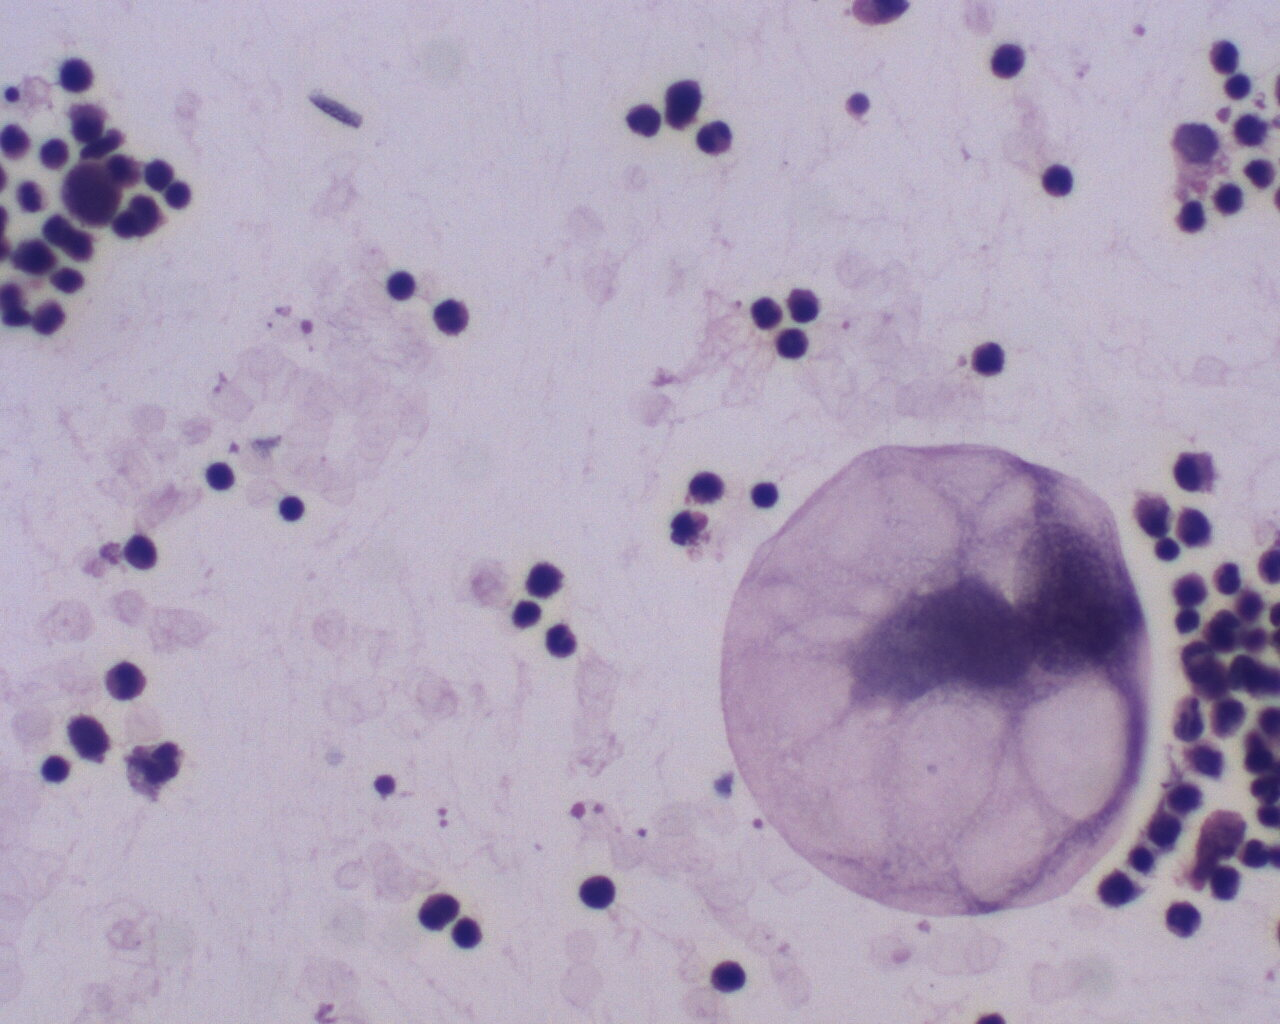ab: (716, 422, 1151, 930), (59, 159, 127, 229), (964, 333, 1009, 383), (707, 955, 752, 998), (1038, 156, 1077, 203), (197, 455, 239, 494), (37, 745, 73, 788)
lymph: (571, 871, 627, 914), (271, 490, 313, 530), (383, 267, 423, 304)
neutro: (540, 616, 579, 658), (695, 117, 736, 156)
